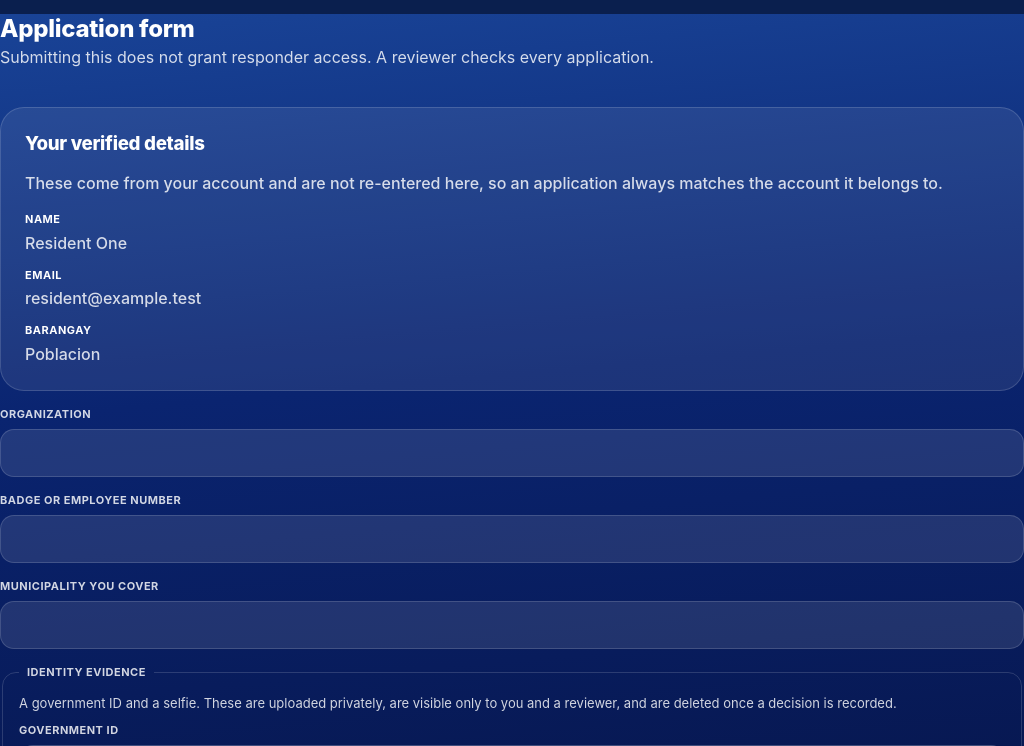
Test: responder application route › never submits a status the applicant chose
In the field labelled "Organization": (512, 453) [0,429,1023,477], type "Aklan MDRRMO"
(page scrolled)
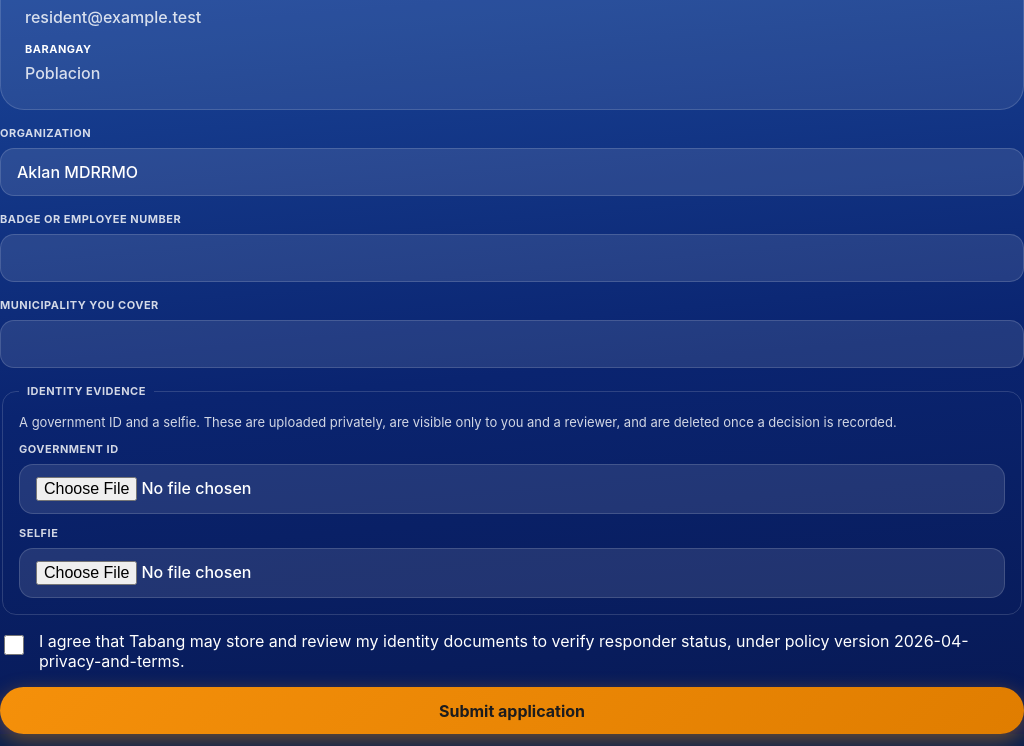
Click the button "Submit application": (512, 711) [0,687,1023,734]
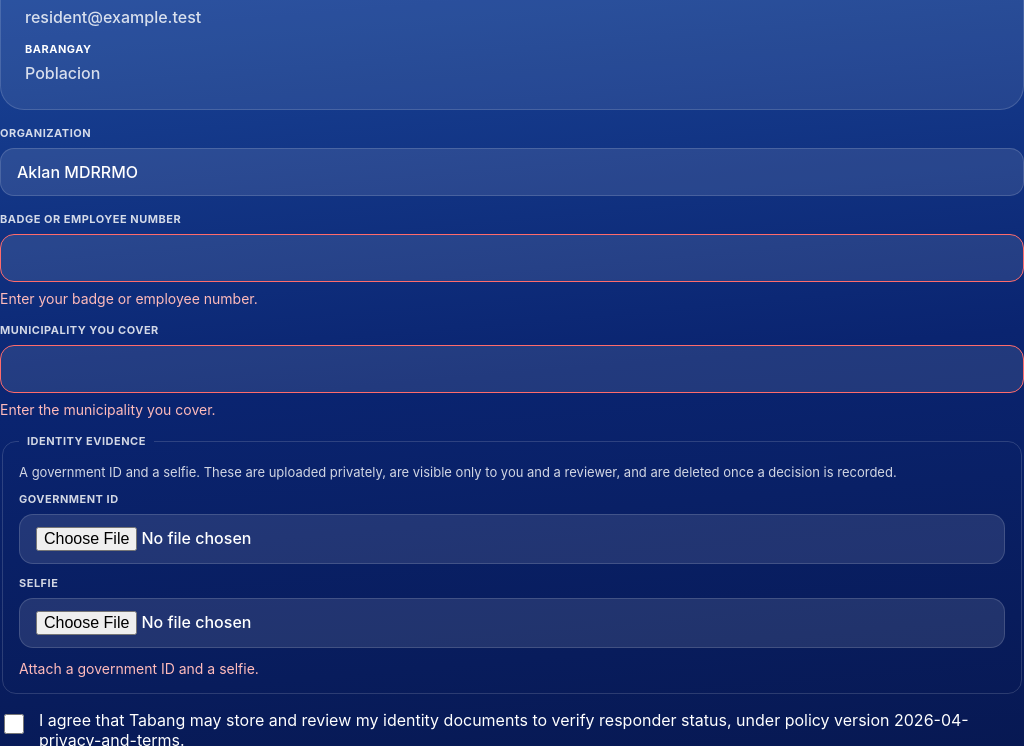
Now the text "Attach a government ID and a selfie." is shown, box [19,660,259,677]
